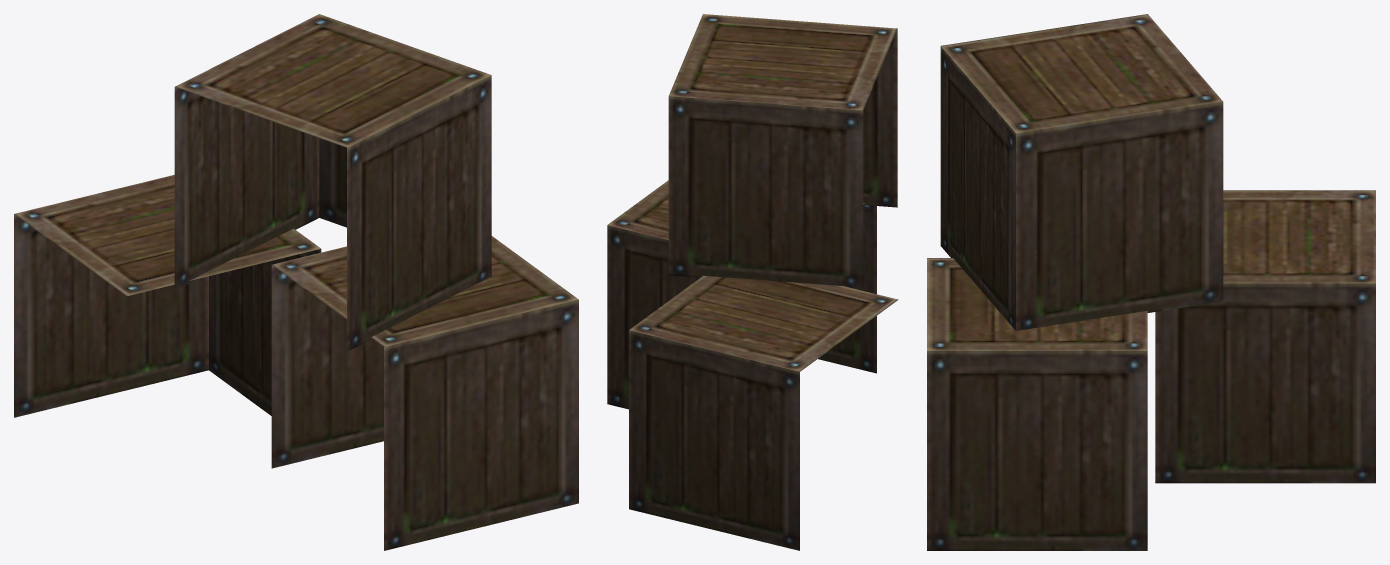
The model's file is zc_erhai_xiangzi01.FBX.
3 renders of one model, left to right at view 1: azimuth 30°, elevation 25°; view 2: azimuth 150°, elevation 25°; view 3: azimuth 270°, elevation 25°, orthographic. The views are drawn at different scales.
Parts seen in each view (by area): view 1: zc_erhai_xiangzi01; view 2: zc_erhai_xiangzi01; view 3: zc_erhai_xiangzi01.
Part boxes in pixels (x1,y1,x2,y2): zc_erhai_xiangzi01: [14, 14, 578, 550]; zc_erhai_xiangzi01: [607, 14, 898, 550]; zc_erhai_xiangzi01: [927, 14, 1375, 550].
Size of the model in its own units: 91.05 by 105 by 107.
1 material, 1 textured.
